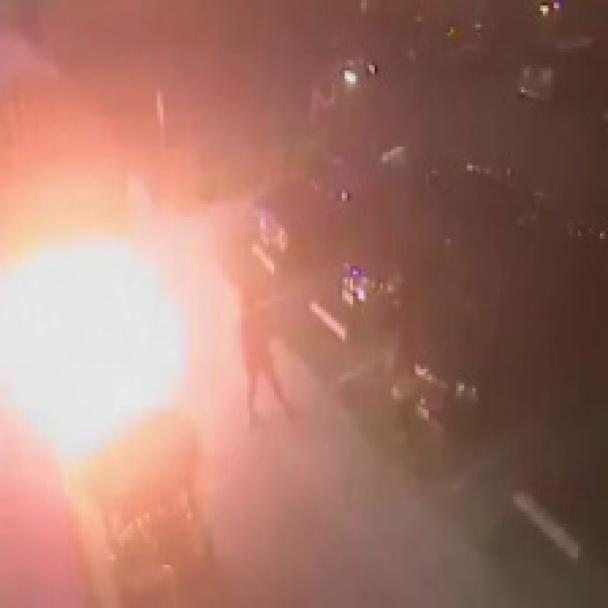Fire: (0, 167, 271, 517)
